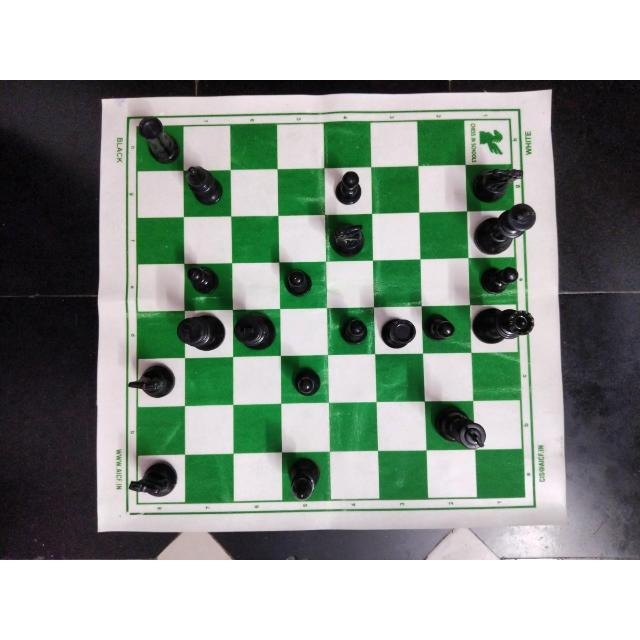black-bishop: (284, 456, 328, 506), (183, 162, 227, 210)
black-king: (471, 202, 541, 258), (431, 403, 487, 452), (173, 313, 227, 352), (232, 311, 277, 351)
black-knight: (124, 451, 178, 501), (466, 164, 526, 203), (127, 362, 177, 401), (326, 216, 370, 260)
black-pawn: (320, 167, 365, 206), (334, 313, 373, 351), (288, 362, 325, 401), (279, 264, 316, 301), (477, 263, 521, 294), (185, 263, 221, 297), (422, 311, 457, 345)
black-queen: (468, 302, 539, 346)
black-rook: (134, 112, 182, 164), (377, 309, 419, 355)
